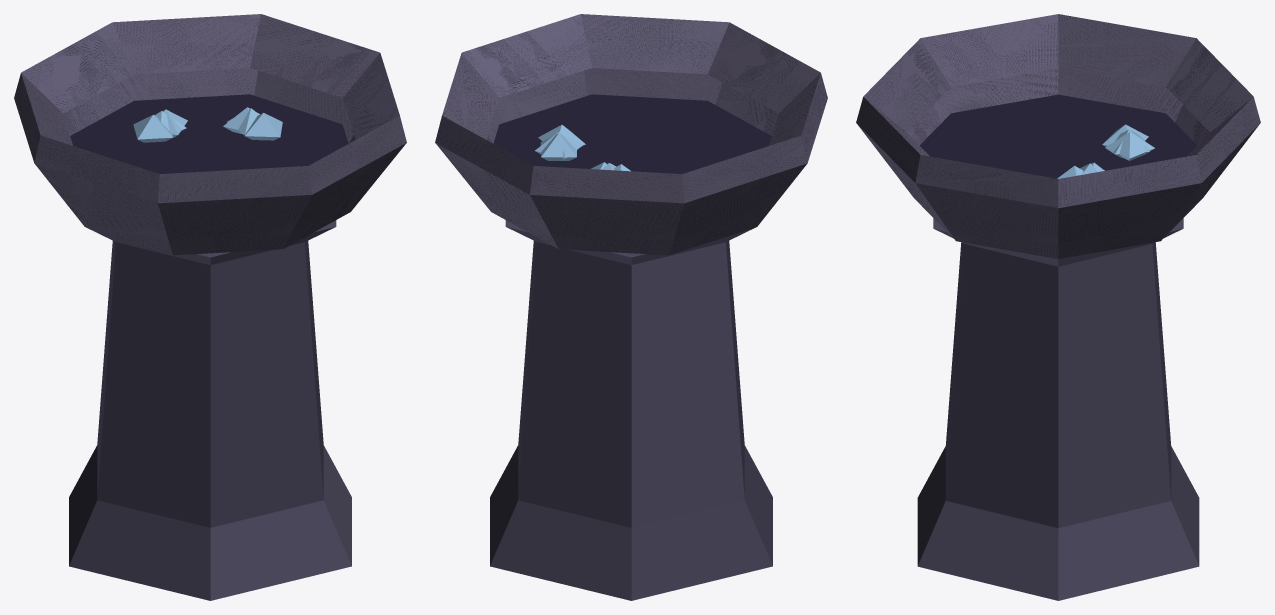
File: Brazier.fbx
3 renders of one model, left to right at view 1: azimuth 30°, elevation 25°; view 2: azimuth 150°, elevation 25°; view 3: azimuth 270°, elevation 25°, orthographic.
Parts seen in each view (by area): view 1: Brazier; view 2: Brazier; view 3: Brazier.
Part boxes in pixels (box(x1,y1,x2,y2)): Brazier: box(14, 14, 406, 600); Brazier: box(435, 14, 827, 600); Brazier: box(856, 14, 1260, 600).
Size of the model in its own units: 1.12 by 1.33 by 1.12.
